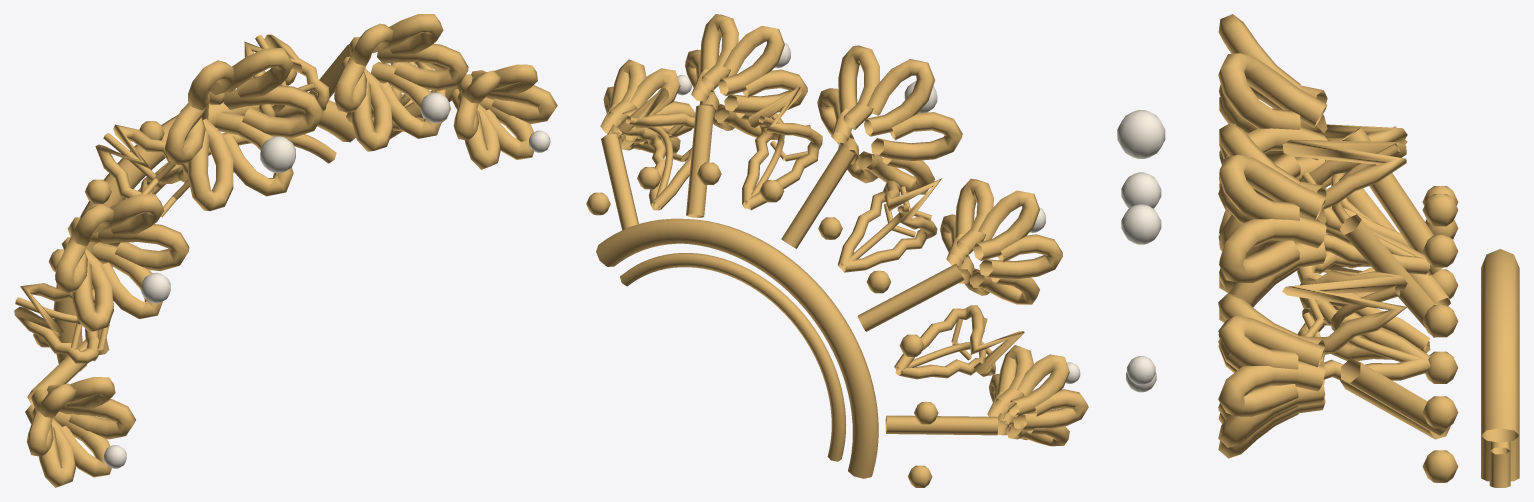
File: ear-cuff.glb
3 views of the same model, side by side, from view 1: azimuth 30°, elevation 25°; view 2: azimuth 150°, elevation 25°; view 3: azimuth 270°, elevation 25° (orthographic). The views are drawn at different scales.
Parts seen in each view (by area): view 1: ear-cuff; view 2: ear-cuff; view 3: ear-cuff.
Part boxes in pixels (x1,y1,x2,y2): ear-cuff: [14, 14, 557, 487]; ear-cuff: [586, 14, 1088, 487]; ear-cuff: [1117, 14, 1519, 487].
Bounding box in the file's own units: 0.054 × 0.0382 × 0.0269.
